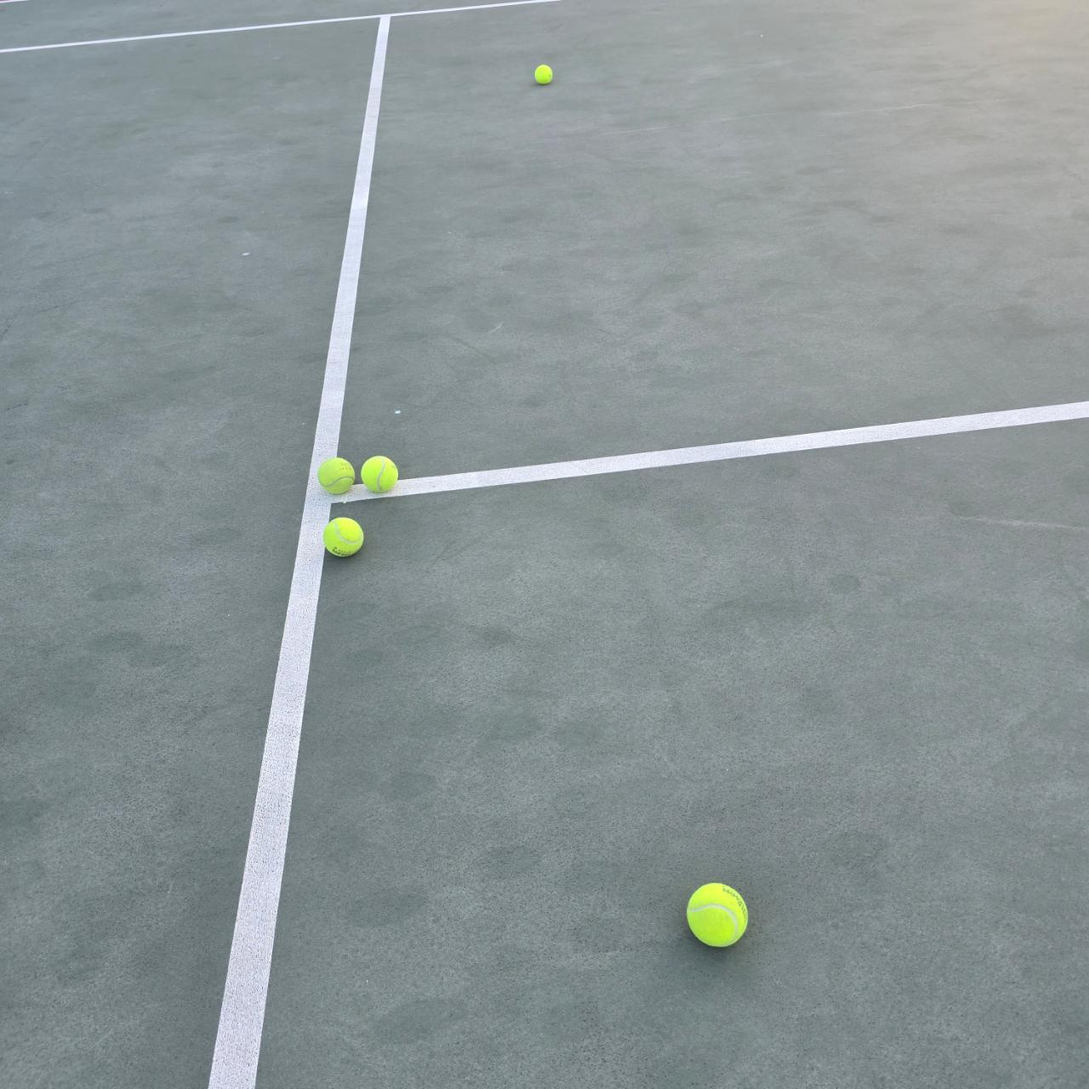tennis-ball: (684, 880, 749, 948), (322, 515, 364, 557), (359, 453, 398, 493), (315, 455, 355, 494), (534, 64, 553, 84)
